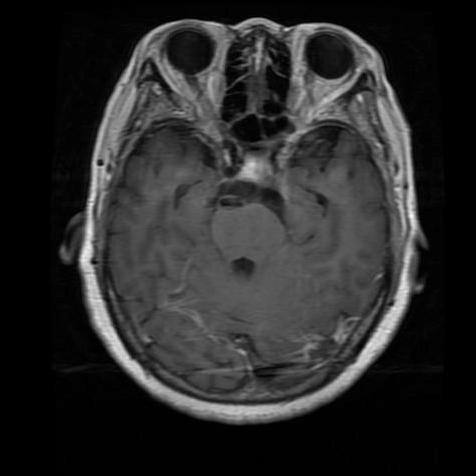Tumour-Pituitary: (218, 156, 293, 198)
